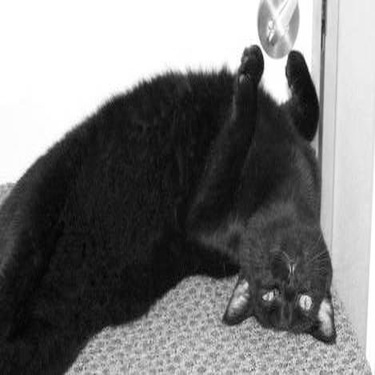cat: (6, 43, 354, 342)
